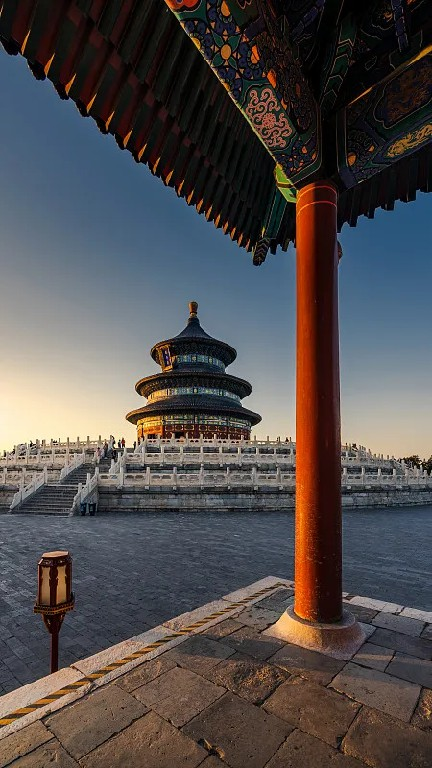Heaven: (126, 301, 261, 442)
